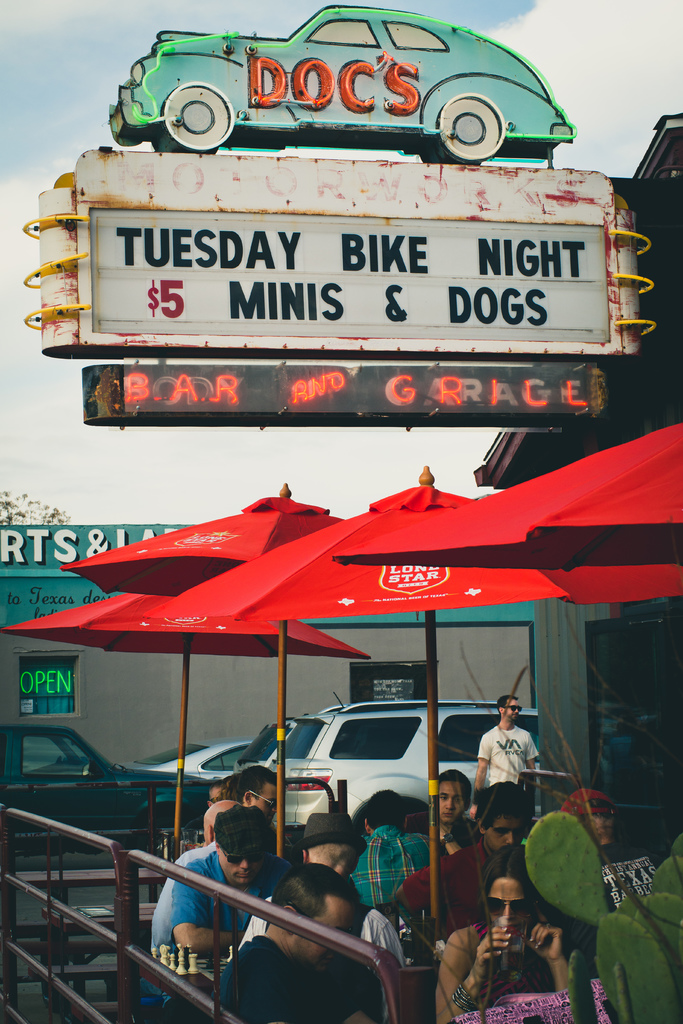Car: (0, 692, 544, 862), (111, 0, 575, 161), (225, 698, 540, 835), (0, 723, 218, 859), (139, 730, 249, 784)
